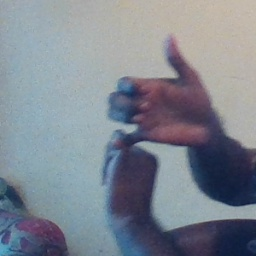S: (96, 31, 204, 194)
